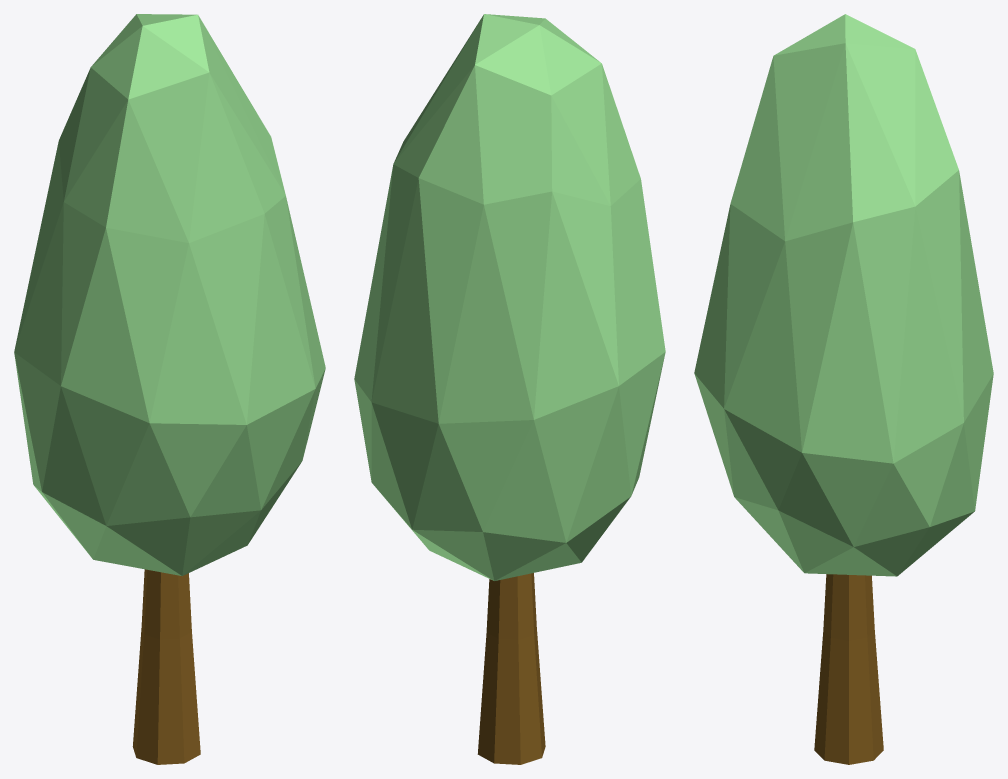
Rendered from Blob Tree.fbx.
The picture shows the model from 3 angles, left to right: view 1: azimuth 30°, elevation 25°; view 2: azimuth 150°, elevation 25°; view 3: azimuth 270°, elevation 25°; orthographic projection.
Parts seen in each view (by area): view 1: Blob Tree; view 2: Blob Tree; view 3: Blob Tree.
Part boxes in pixels (bbox=[...]): Blob Tree: bbox=[14, 14, 325, 764]; Blob Tree: bbox=[354, 14, 665, 764]; Blob Tree: bbox=[694, 14, 993, 764].
Size of the model in its own units: 247 by 652 by 245.
